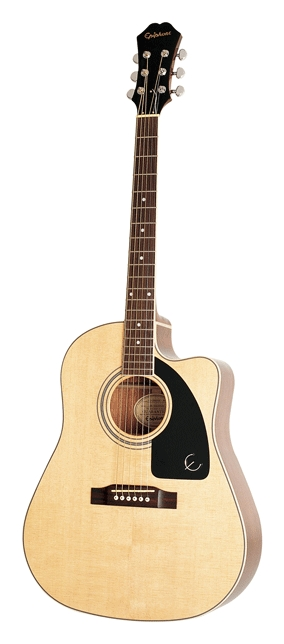guitar: (19, 25, 266, 621)
